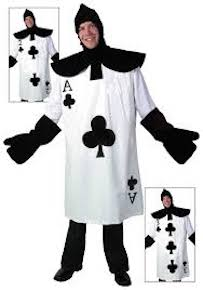AceOfClubs: (57, 59, 146, 226)
